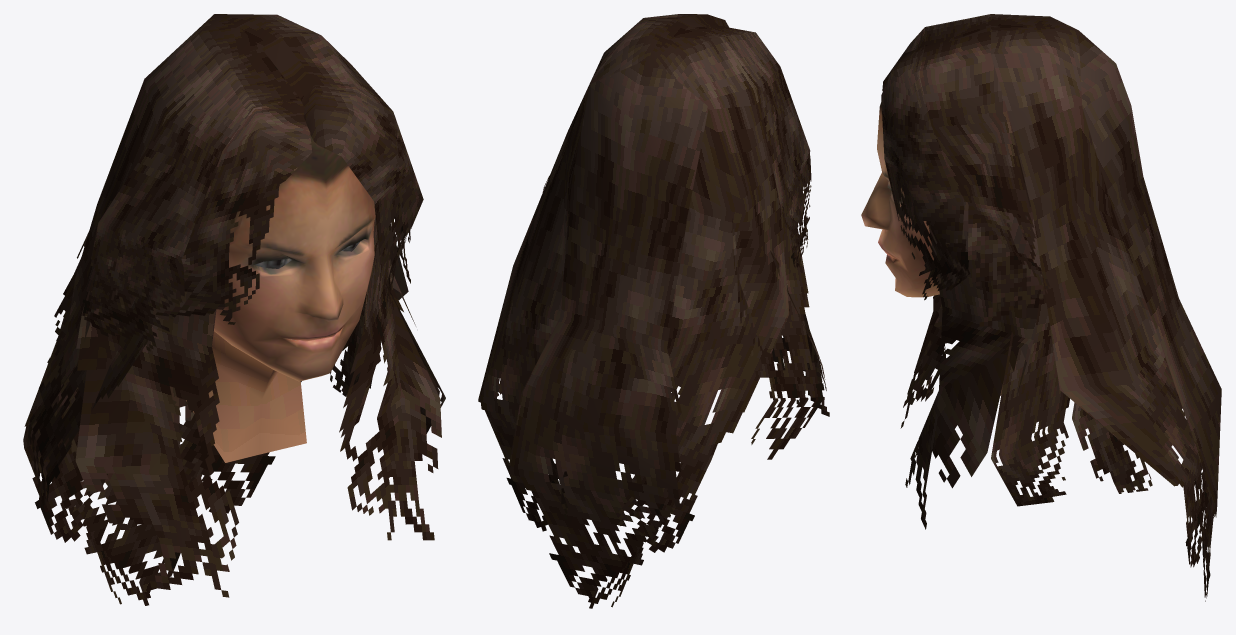
Rendered from Eve_H.obj.
The picture shows the model from 3 angles, left to right: view 1: azimuth 30°, elevation 25°; view 2: azimuth 150°, elevation 25°; view 3: azimuth 270°, elevation 25°; orthographic projection. The views are drawn at different scales.
Parts seen in each view (by area): view 1: Eve_H.001; view 2: Eve_H.001; view 3: Eve_H.001.
Boxes of the visible parts, x1,y1,x2,y2 form: Eve_H.001: (23, 14, 445, 605); Eve_H.001: (478, 14, 829, 608); Eve_H.001: (861, 14, 1221, 601).
Size of the model in its own units: 3.44 by 5.71 by 3.17.
5 materials, 5 textured.
